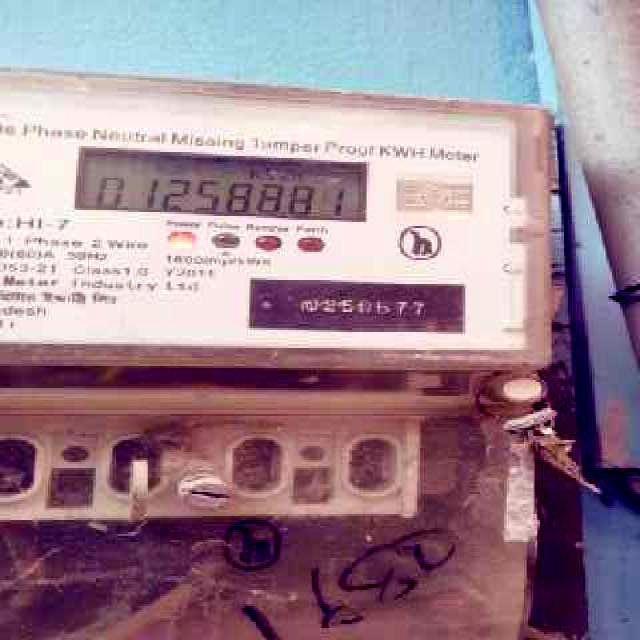LCD: (66, 138, 379, 235)
